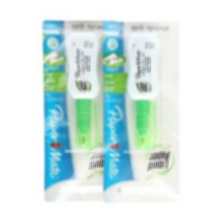book: (41, 19, 122, 205), (101, 19, 182, 203)
correction_fluid: (63, 30, 104, 152), (124, 31, 163, 152)
